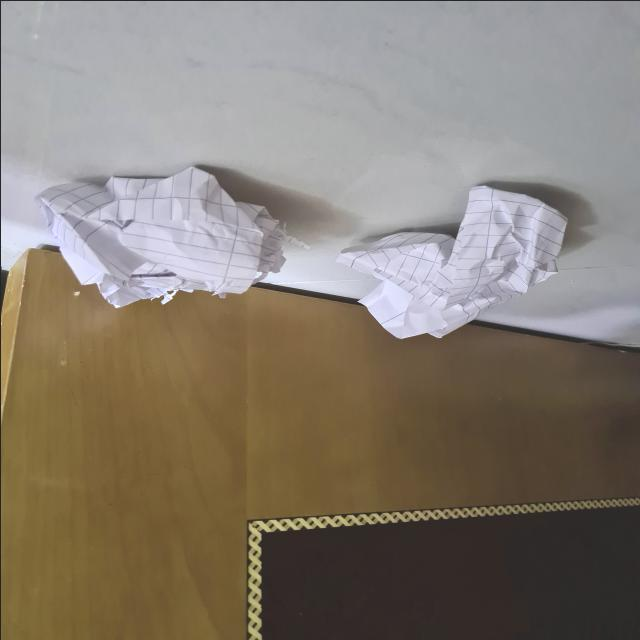Paper: (42, 149, 290, 326), (349, 157, 570, 350)
